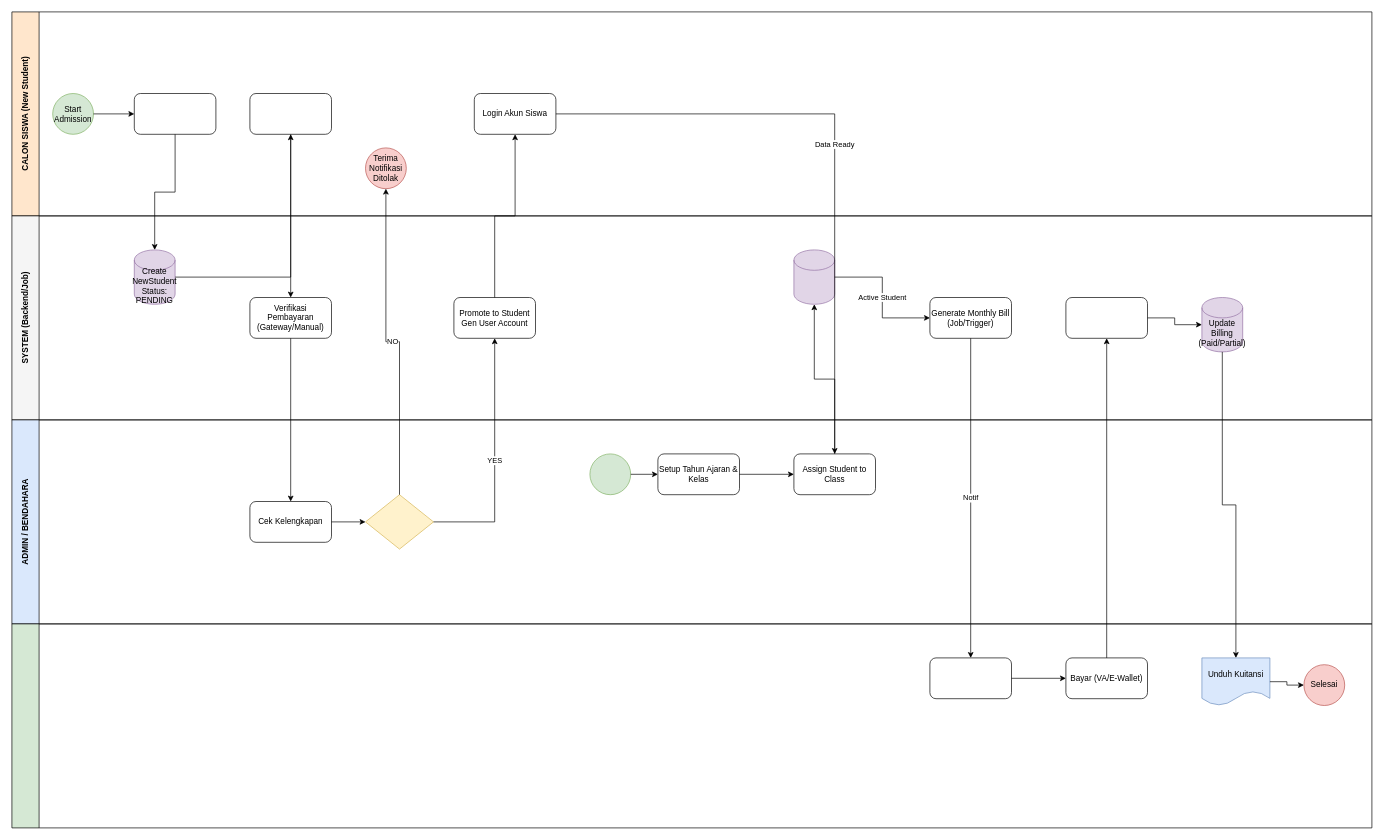
This 1384x840 diagram has some shape labels left out. Each missing label, with the box of its shape:
Approve?: (365, 494, 434, 549)
Bayar Biaya Pendaftaran: (249, 93, 332, 134)
Create StudentClass Record: (793, 249, 835, 304)
Input Data Diri: (134, 93, 216, 134)
Lihat Tagihan: (929, 657, 1012, 699)
SISWA (Student): (11, 623, 1372, 828)
Start Academic: (589, 453, 631, 495)
Update Payment Status: (1065, 297, 1148, 338)
